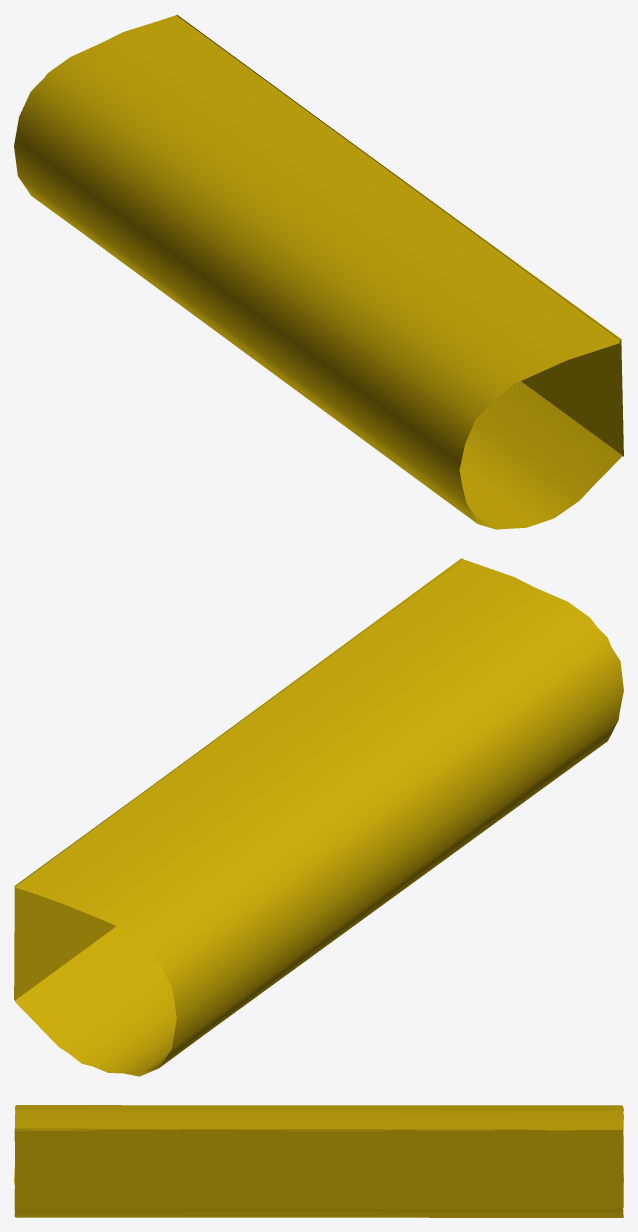
File: original_16.obj
3 views of the same model, one above another, from view 1: azimuth 30°, elevation 25°; view 2: azimuth 150°, elevation 25°; view 3: azimuth 270°, elevation 25° (orthographic). The views are drawn at different scales.
Parts seen in each view (by area): view 1: #ID99; view 2: #ID99; view 3: #ID99.
Part boxes in pixels (bbox=[...]): #ID99: bbox=[14, 14, 623, 529]; #ID99: bbox=[14, 558, 623, 1076]; #ID99: bbox=[14, 1105, 623, 1217].
Size of the model in its own units: 0.0164 by 0.0158 by 0.0775.
